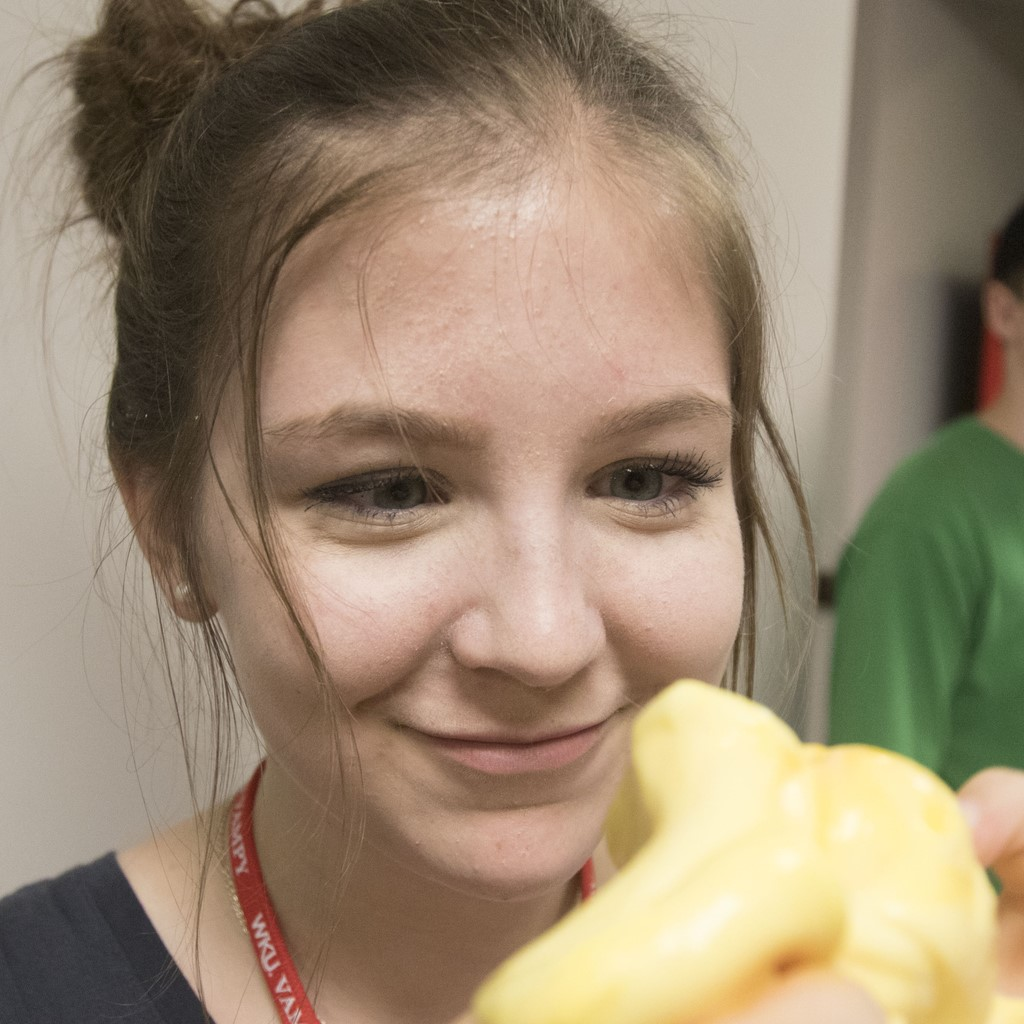sin_mascara: (202, 159, 756, 903)
